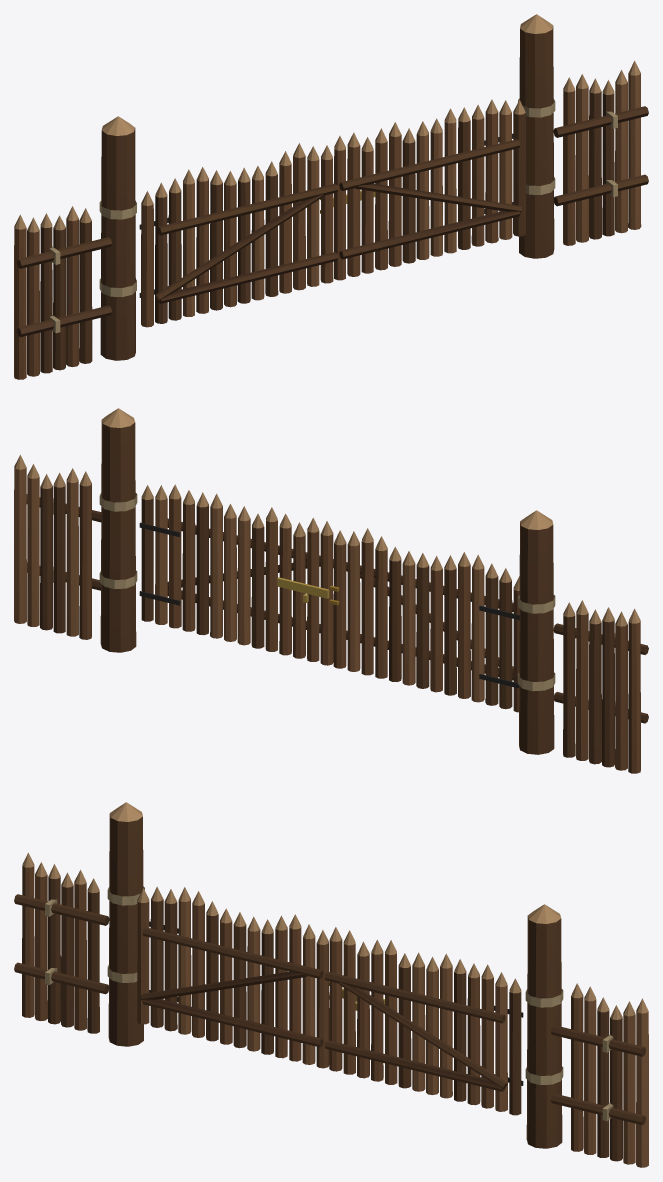
File: fence_gate_wide.glb
The picture shows the model from 3 angles, top to bottom: view 1: azimuth 30°, elevation 25°; view 2: azimuth 150°, elevation 25°; view 3: azimuth 330°, elevation 25°; orthographic projection.
Visible parts, largest first — view 1: fence_gate_wide, leaf_r, leaf_l; view 2: fence_gate_wide, leaf_r, leaf_l; view 3: fence_gate_wide, leaf_l, leaf_r.
Part boxes in pixels (x1=…): fence_gate_wide: x1=14, y1=14, x2=648, y2=379; leaf_r: x1=333, y1=99, x2=525, y2=280; leaf_l: x1=139, y1=143, x2=338, y2=327; fence_gate_wide: x1=14, y1=408, x2=648, y2=773; leaf_r: x1=139, y1=484, x2=333, y2=665; leaf_l: x1=329, y1=528, x2=519, y2=712; fence_gate_wide: x1=14, y1=802, x2=648, y2=1167; leaf_l: x1=137, y1=886, x2=329, y2=1068; leaf_r: x1=324, y1=927, x2=523, y2=1115.
Size of the model in its own units: 7.2 by 2.6 by 0.45.
